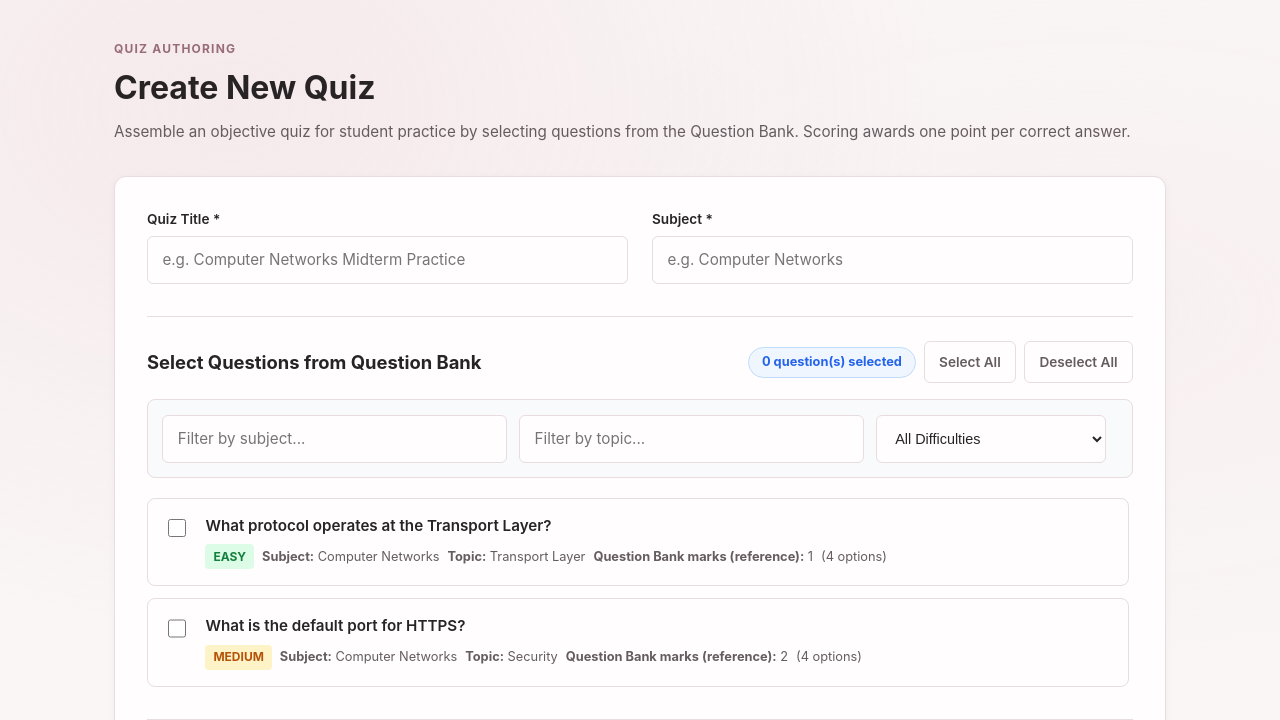
CreateQuizPage (CSMQ-49) › validates zero questions selected on submission
Expected: the text "What protocol operates at the Transport Layer?" is shown, [205,516,552,535]
Type "CN Midterm Prep" into the field labelled "Quiz Title *".
click(388, 260); type("CN Midterm Prep")  # box [147,236,628,284]
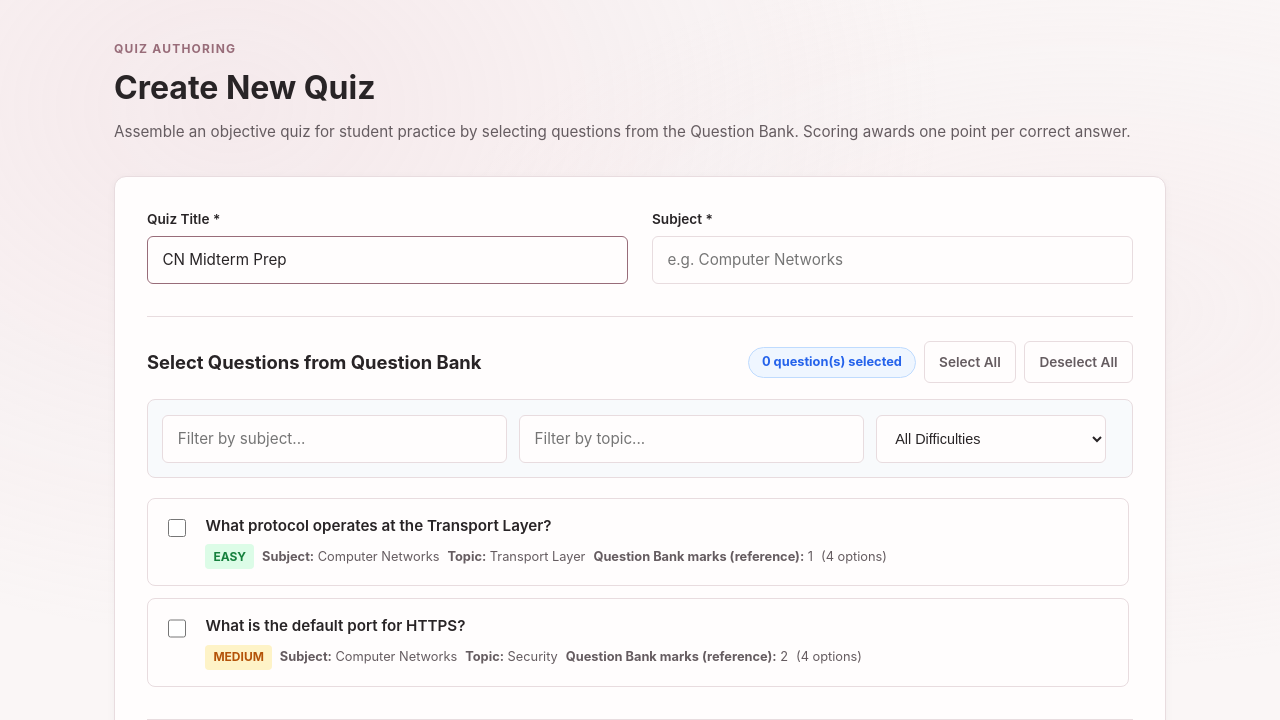
Type "Computer Networks" into the field labelled "Subject *".
click(892, 260); type("Computer Networks")  # box [652,236,1133,284]
(page scrolled)
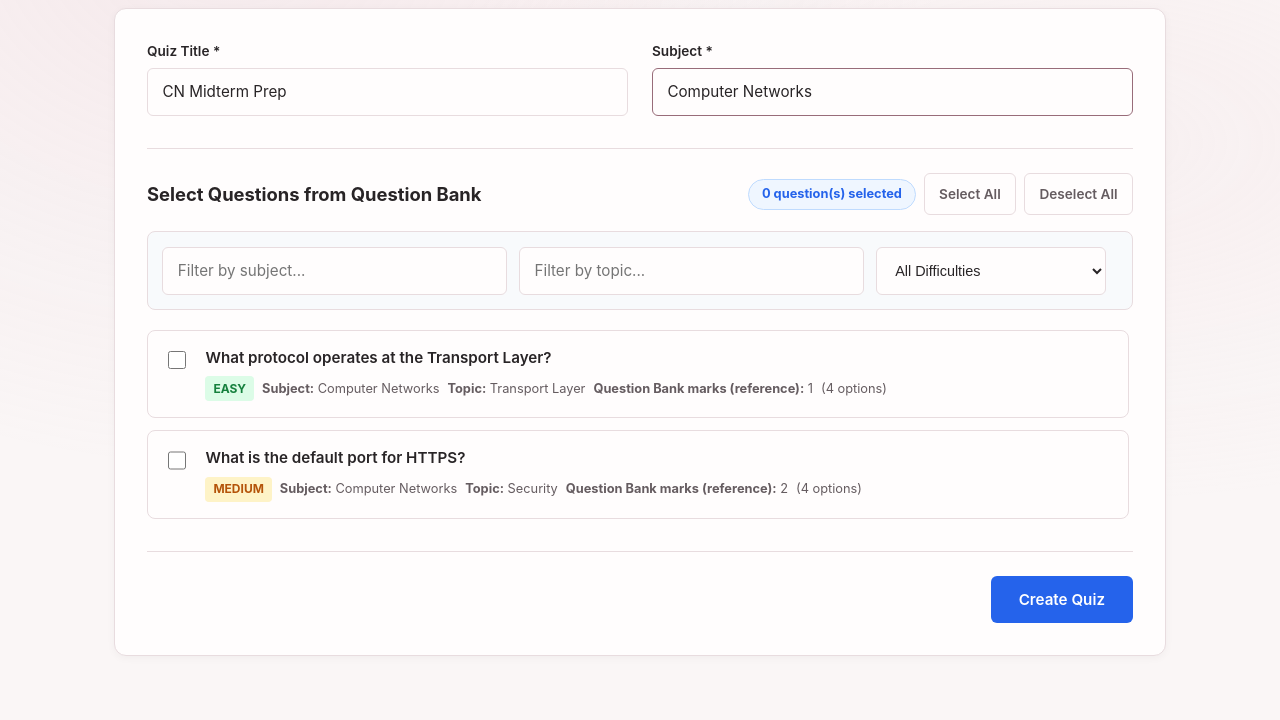
Click the button "Create Quiz".
click(1062, 599)  # box [991,576,1133,623]
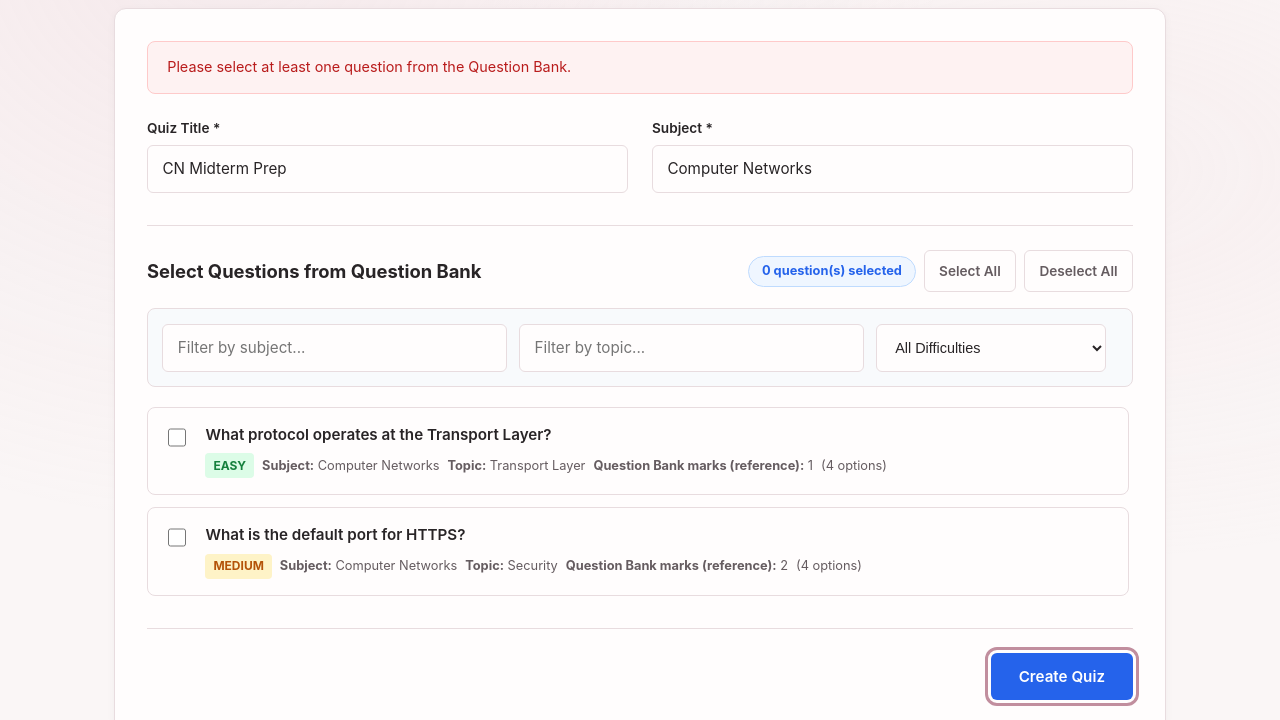
Result: the message reads "Please select at least one question from the Question Bank." at [167,58,571,75]
